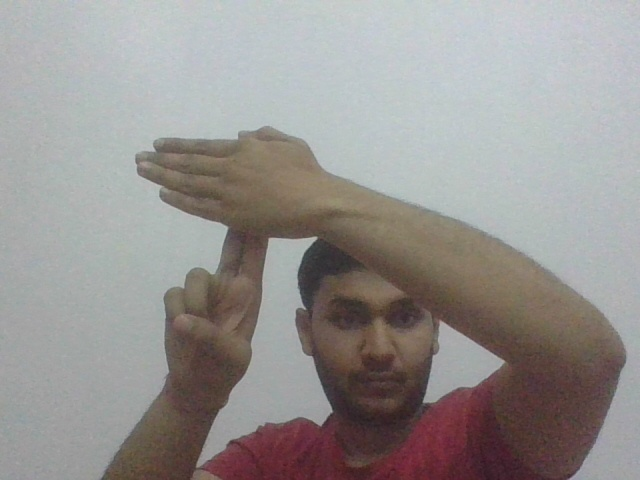N: (132, 123, 298, 280)
